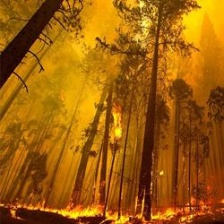fire: (5, 200, 224, 223), (110, 104, 125, 145)
